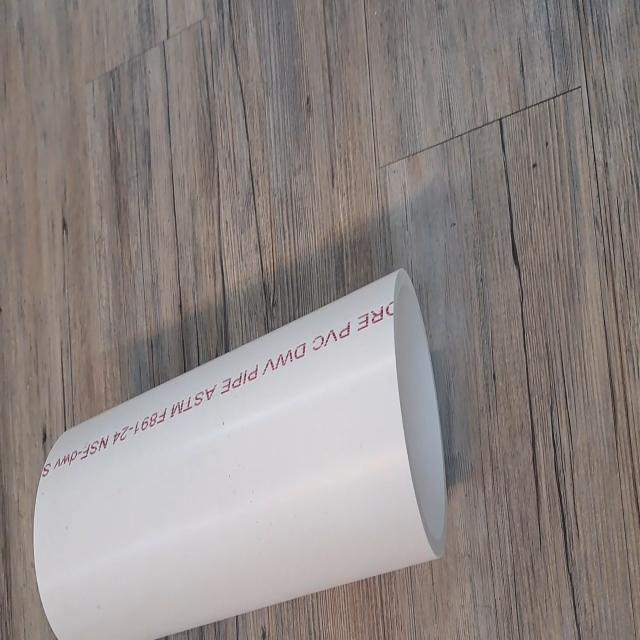CORAL: (28, 264, 450, 640)
